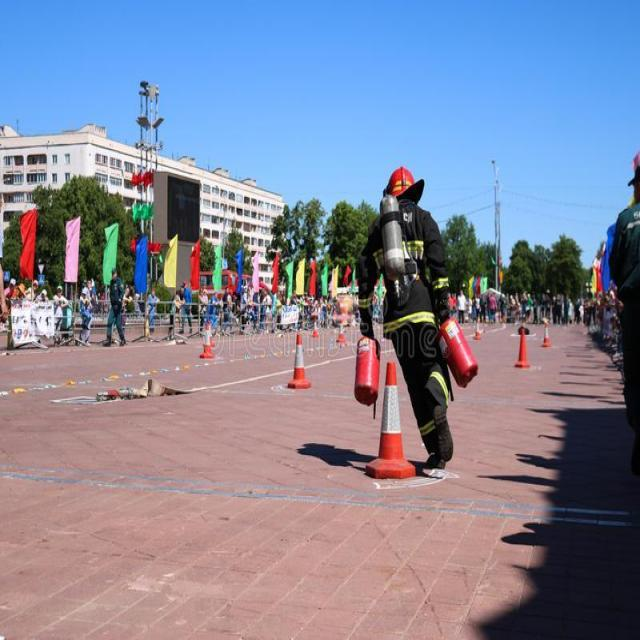fire_extinguisher: (432, 313, 478, 403), (349, 328, 387, 421)
